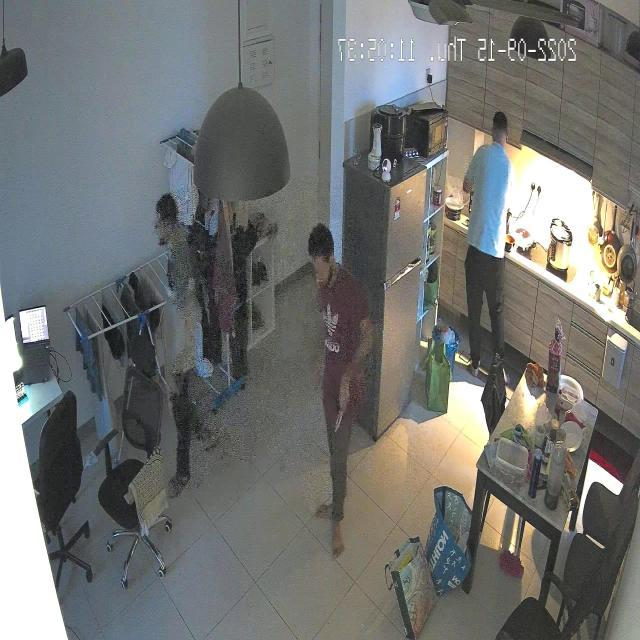Knife: (322, 392, 360, 439)
